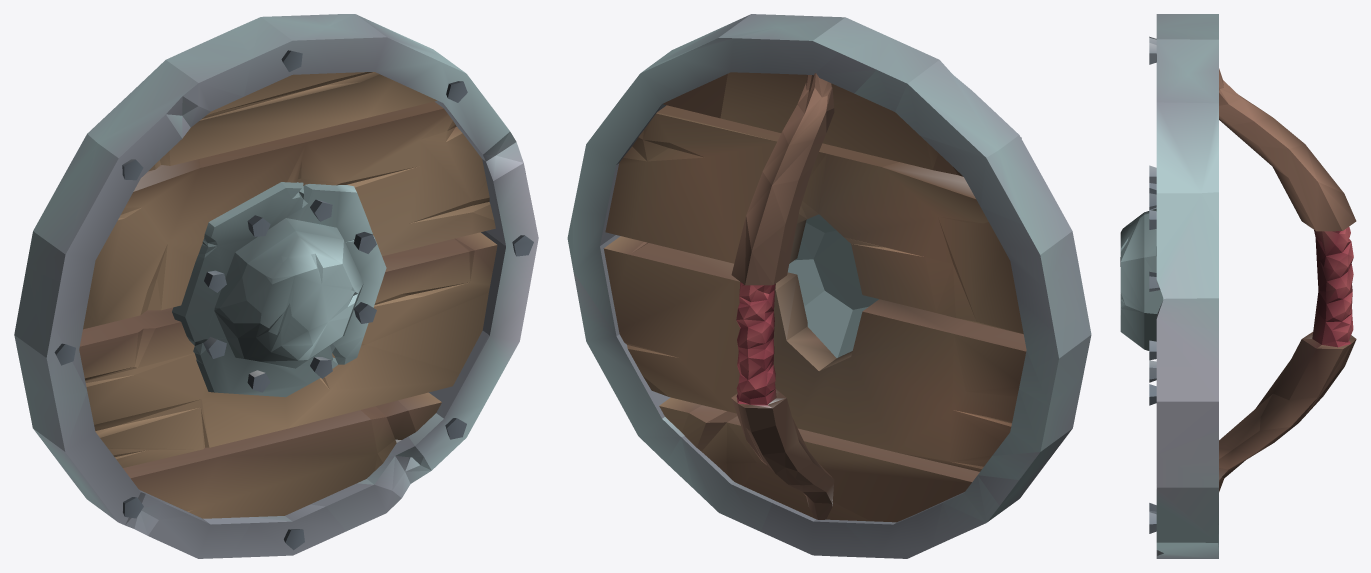
The model's file is basic_shield(buckler).fbx.
3 renders of one model, left to right at view 1: azimuth 30°, elevation 25°; view 2: azimuth 150°, elevation 25°; view 3: azimuth 270°, elevation 25°, orthographic. The views are drawn at different scales.
Parts seen in each view (by area): view 1: basic_shield-buckler_mesh; view 2: basic_shield-buckler_mesh; view 3: basic_shield-buckler_mesh.
Part boxes in pixels (x1,y1,x2,y2): basic_shield-buckler_mesh: (14,14,538,558); basic_shield-buckler_mesh: (567,14,1091,558); basic_shield-buckler_mesh: (1120,14,1356,558).
Bounding box in the file's own units: 0.7278 × 0.7278 × 0.3152.
